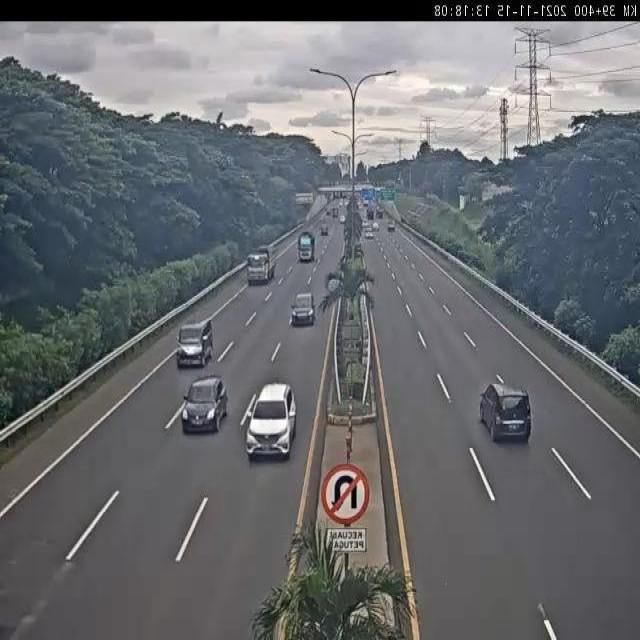Car: (243, 382, 298, 459), (478, 382, 532, 444), (182, 375, 230, 437), (289, 292, 317, 328)
Truck: (246, 243, 278, 284), (297, 232, 316, 264)
Van: (176, 316, 214, 369)
